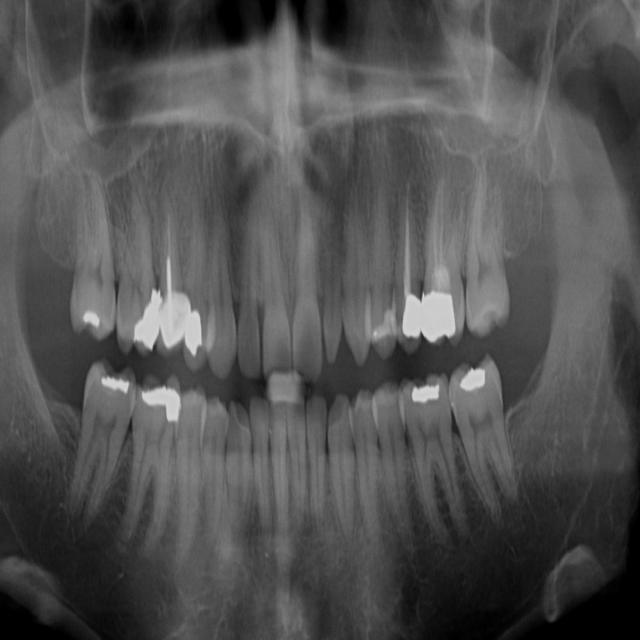dolgu: (139, 379, 191, 446), (415, 288, 469, 350), (454, 352, 504, 404), (398, 376, 453, 416), (78, 366, 132, 403), (392, 290, 422, 352), (132, 292, 162, 351), (72, 302, 107, 330)
kanal-tedavisi: (386, 176, 424, 297), (147, 210, 178, 304)
kaplama: (163, 290, 196, 356)
